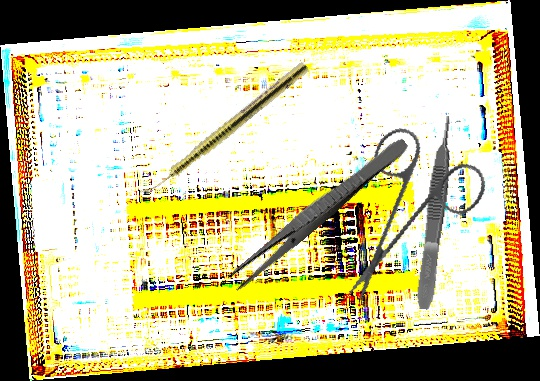Dressing Forceps: (224, 131, 412, 294)
Handpiece: (137, 58, 311, 204)
Iris Scissors: (312, 111, 506, 302)
Tissue Forceps: (412, 114, 461, 311)
